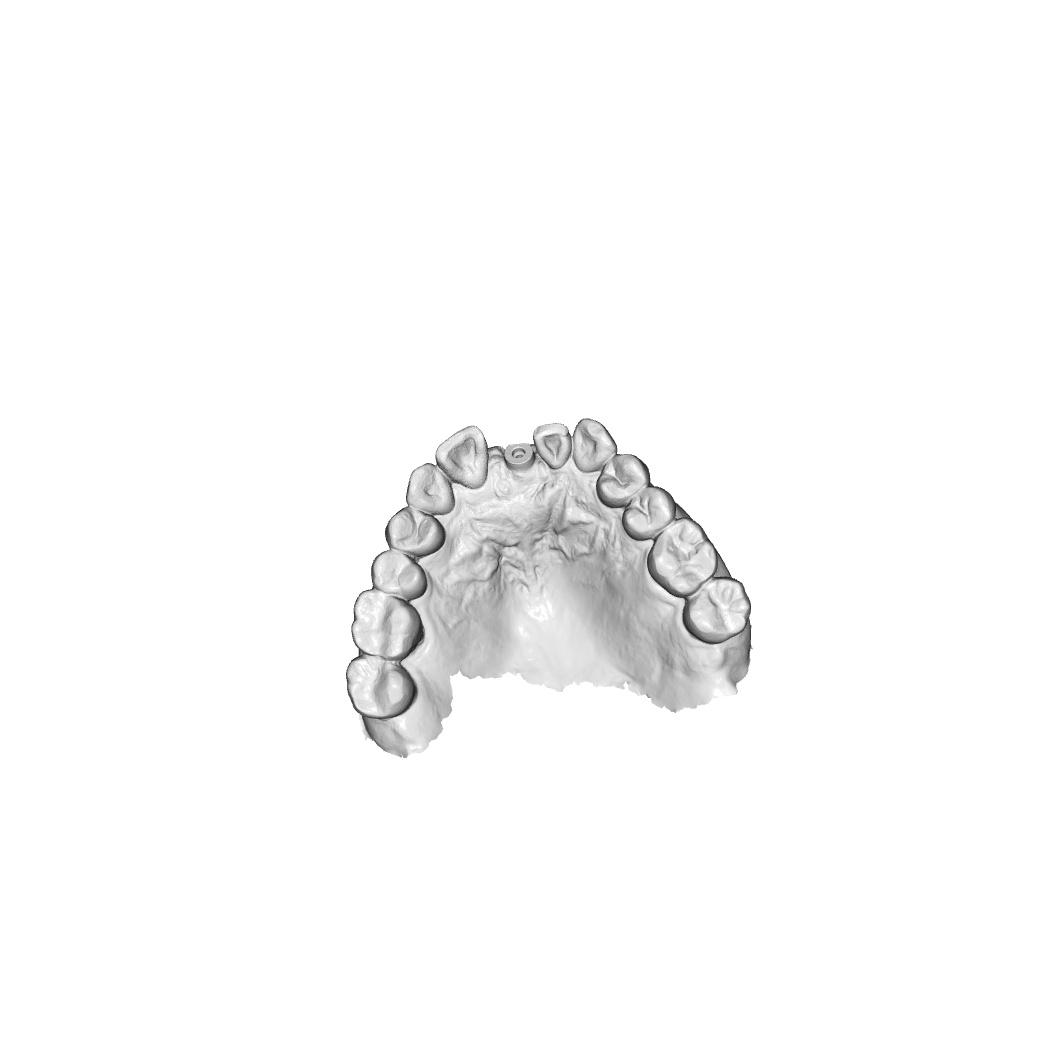canine: (404, 462, 456, 516), (572, 417, 618, 473)
implant: (503, 442, 536, 471)
incisor: (435, 424, 490, 490), (532, 421, 573, 470)
molar: (646, 516, 719, 599), (351, 589, 425, 660), (344, 653, 417, 720), (682, 576, 752, 645)
premolar: (385, 506, 446, 559), (595, 453, 651, 509), (621, 486, 677, 541), (370, 549, 428, 601)
